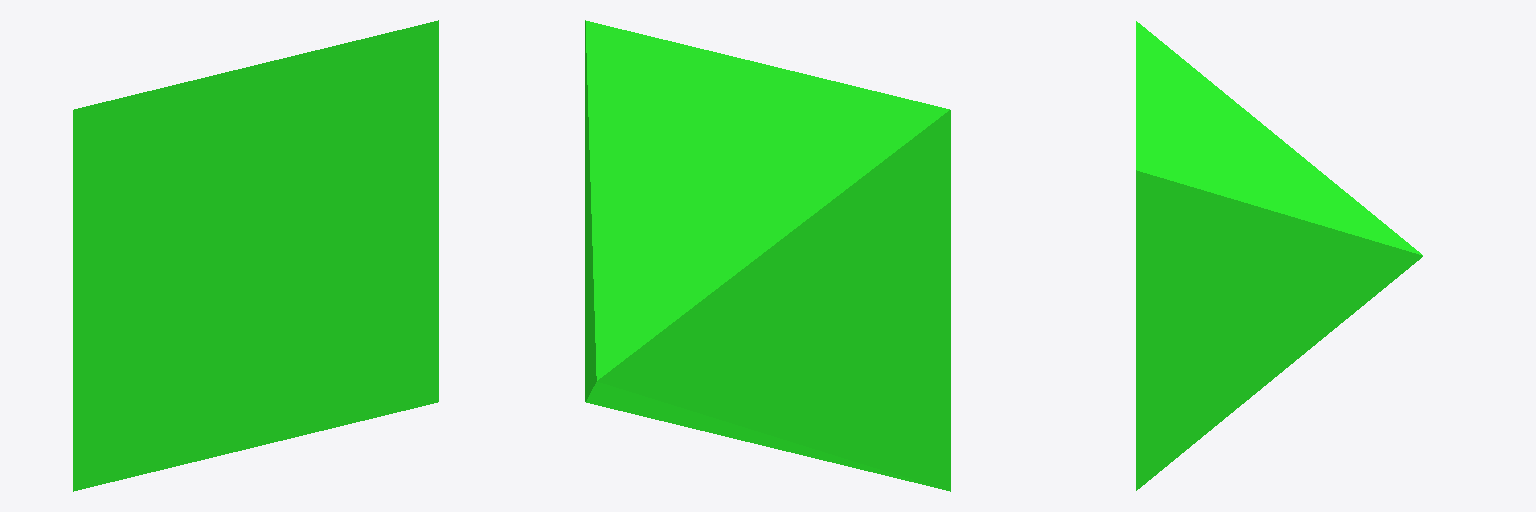
The robot description file, URDF, robot "urdf_robot":
<?xml version="0.0" ?>
<robot name="urdf_robot">
  <link name="baseLink">
  	<contact>
      <rolling_friction value="0.03"/>
      <spinning_friction value="0.03"/>
    </contact>

    <inertial>
      <origin rpy="0 0 0" xyz="0 0 0"/>
       <mass value="0.0"/>
       <inertia ixx="0" ixy="0" ixz="0" iyy="0" iyz="0" izz="0"/>
    </inertial>
    <visual>
      <origin rpy="0 0 0" xyz="0 -0.5 0"/>
      <geometry>
				<mesh filename="Pyramid Icon obj.obj" scale="0.5 0.5 0.5"/>      
      </geometry>
      <material name="green">
        <color rgba="0.2 1 0.2 1"/>
        <specular rgb="1 1 1"/>
      </material>
    </visual>
    <!-- <collision>
      <origin rpy="0 0 0" xyz="0 0 0"/>
      <geometry>
	 <sphere radius="0.5"/>
      </geometry>
    </collision> -->
  </link>
</robot>

--- Facts derived from the render (not from the file) ---
3 views of the same robot in one strip: view 1: azimuth 30°, elevation 25°; view 2: azimuth 150°, elevation 25°; view 3: azimuth 270°, elevation 25° (orthographic).
Model urdf_robot with 1 links and 0 joints (none), rooted at baseLink, posed all joints at 0.
Links seen in each view (by area): view 1: baseLink; view 2: baseLink; view 3: baseLink.
Boxes of the visible links, x1,y1,x2,y2 form: baseLink: (73,20,438,491); baseLink: (585,20,950,491); baseLink: (1136,21,1422,490).
Size in the robot's own frame: 1 by 0.813 by 1 metres.
1 mesh visuals loaded from 1 distinct referenced files (1 OBJ).